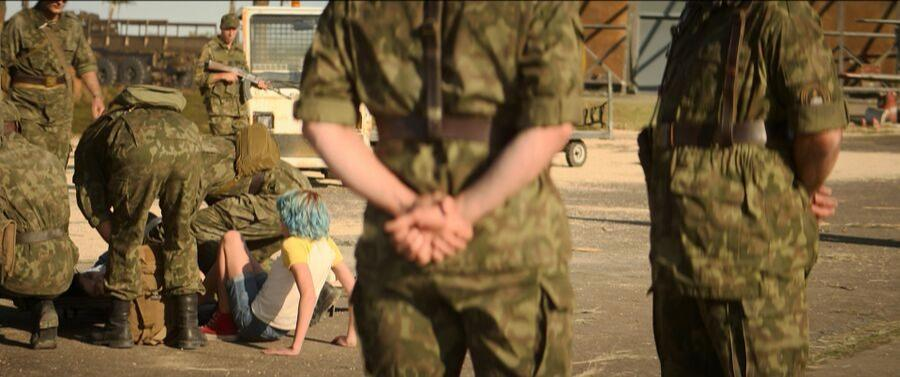gun: (208, 59, 292, 103)
